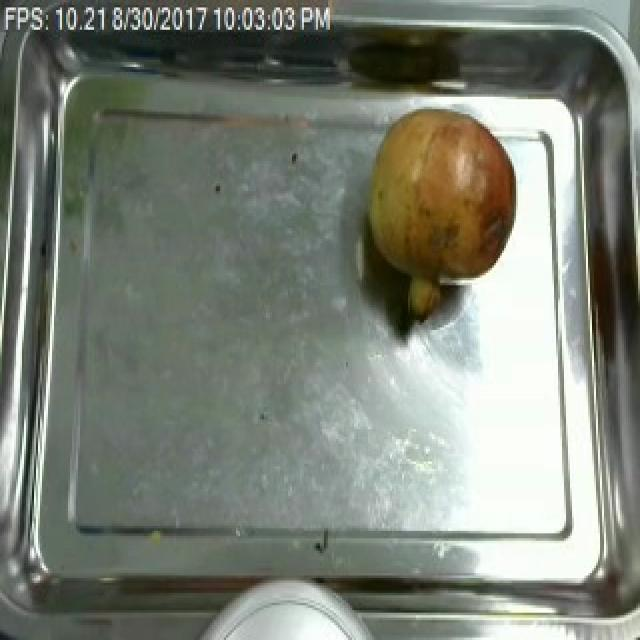fruit: (360, 99, 522, 308)
